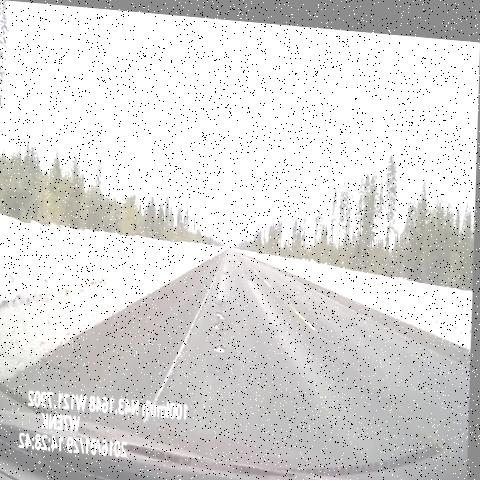pothole: (210, 293, 229, 336), (209, 330, 235, 359), (241, 263, 259, 282), (221, 259, 232, 280)
